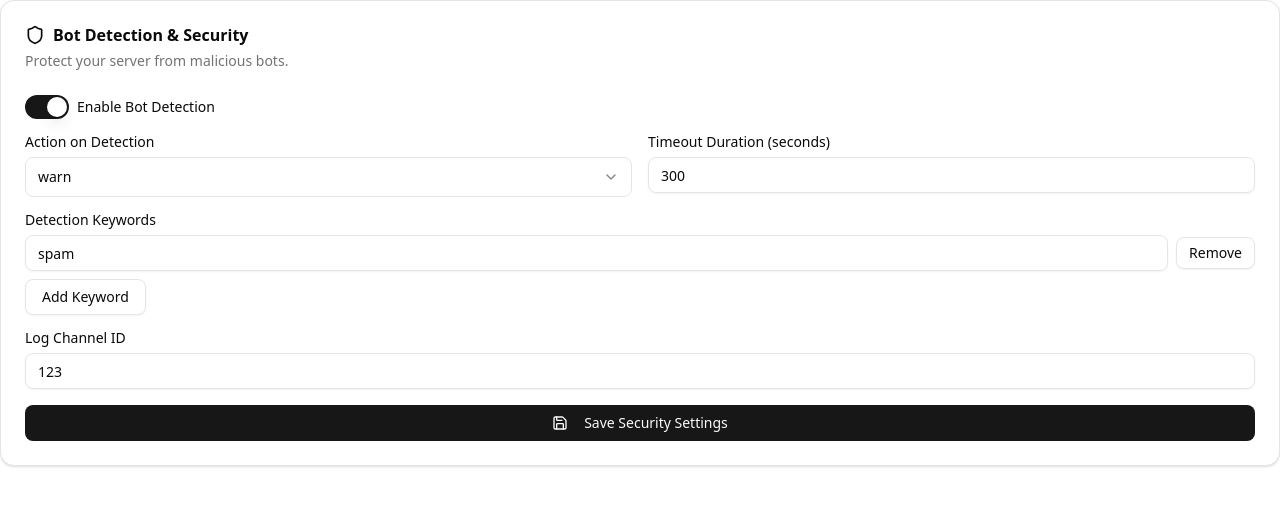
SecuritySettings › handles keyword add and remove
The image size is (1280, 528).
Step 1. Click the button "Add Keyword" → (85, 297), box top-left (25, 279), bottom-right (146, 315)
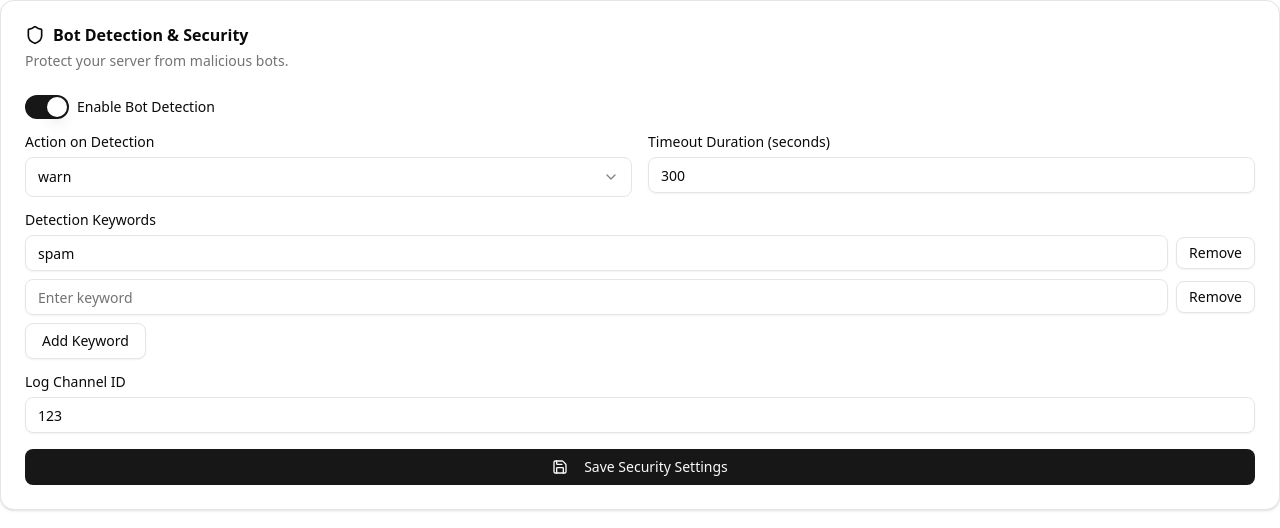
Now the number of fields with placeholder "Enter keyword" is 2
Step 2. Type "bot" into the field with placeholder "Enter keyword" → (597, 297), box top-left (25, 279), bottom-right (1168, 315)
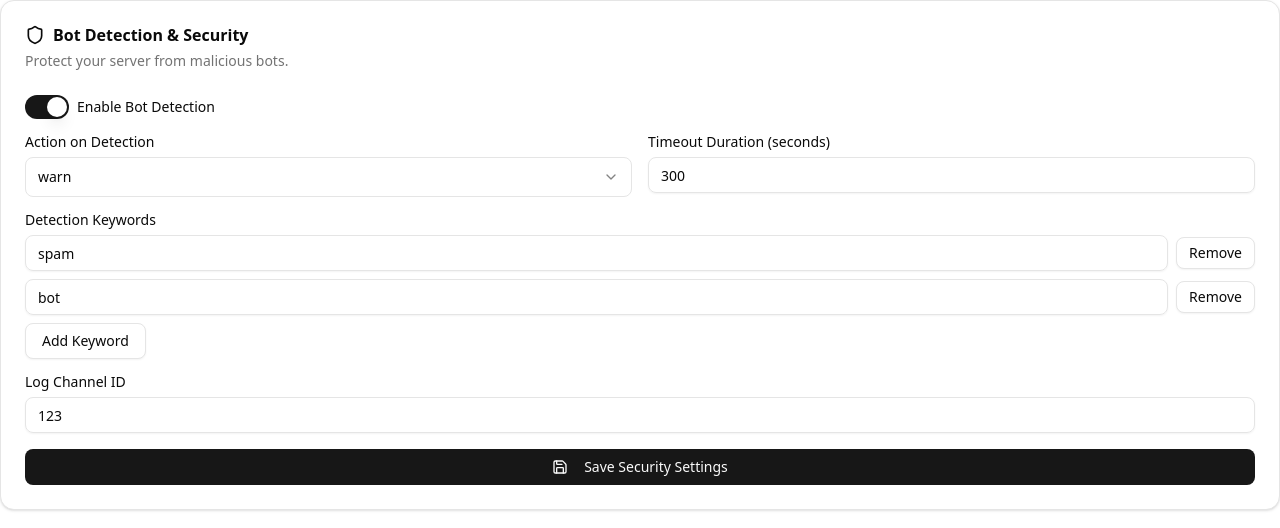
Step 3. Click the 2nd button "Remove" → (1216, 297), box top-left (1176, 281), bottom-right (1255, 313)
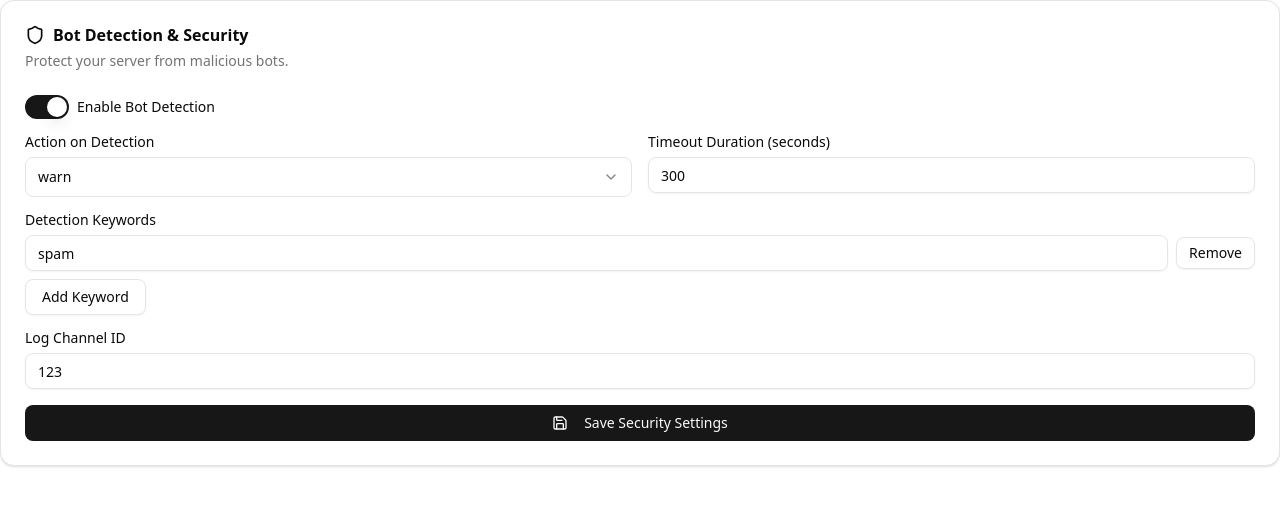
Now the number of fields with placeholder "Enter keyword" is 1, box top-left (25, 235), bottom-right (1168, 271)
